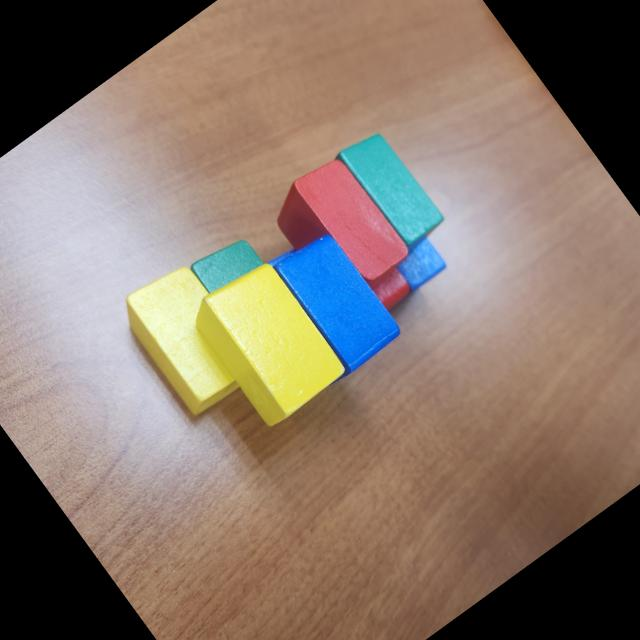blue: (252, 224, 408, 388), (387, 232, 451, 294)
green: (332, 122, 450, 254), (185, 228, 266, 302)
red: (262, 150, 416, 314), (356, 250, 416, 312)
yellow: (184, 255, 348, 430), (110, 255, 264, 421)
